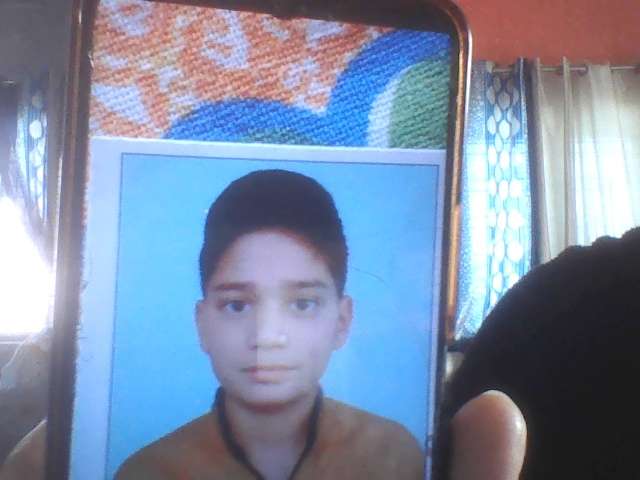fake: (180, 166, 370, 436)
